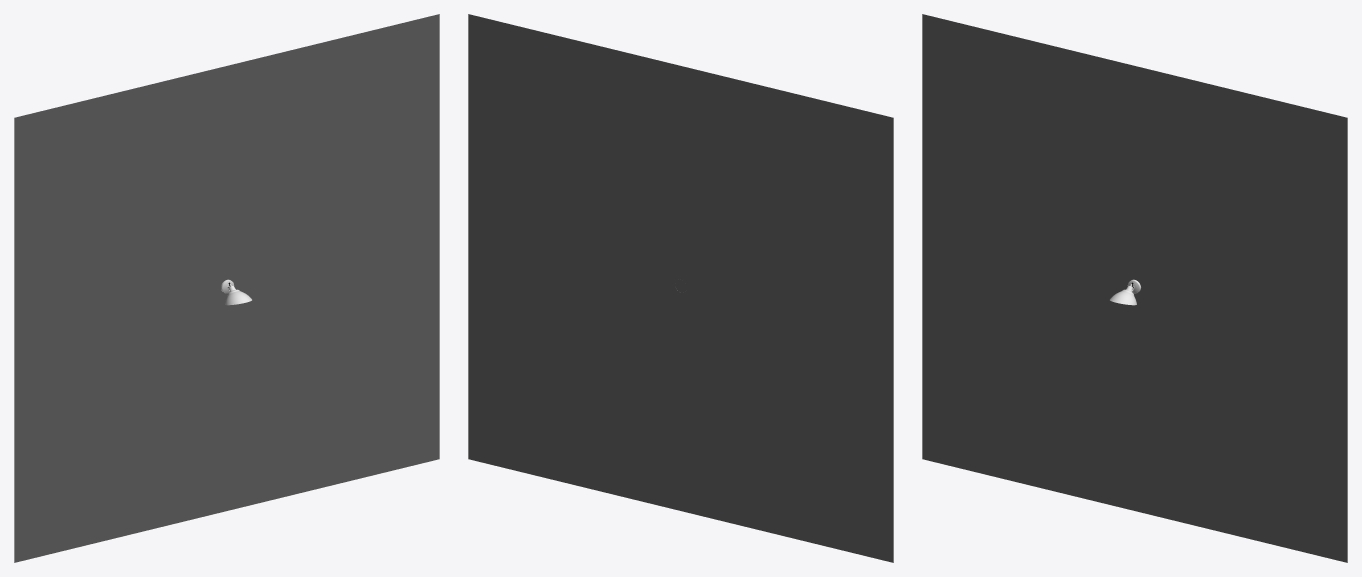
3 views of the same model, side by side, from view 1: azimuth 30°, elevation 25°; view 2: azimuth 150°, elevation 25°; view 3: azimuth 330°, elevation 25° (orthographic).
Parts seen in each view (by area): view 1: FLOOR; view 2: FLOOR; view 3: FLOOR.
Part boxes in pixels (x1=…): FLOOR: x1=14, y1=14, x2=439, y2=562; FLOOR: x1=468, y1=14, x2=893, y2=562; FLOOR: x1=922, y1=14, x2=1347, y2=562.
Bounding box in the file's own units: 334 × 334 × 25.35.
Materials: 7 (1 with a texture image).
